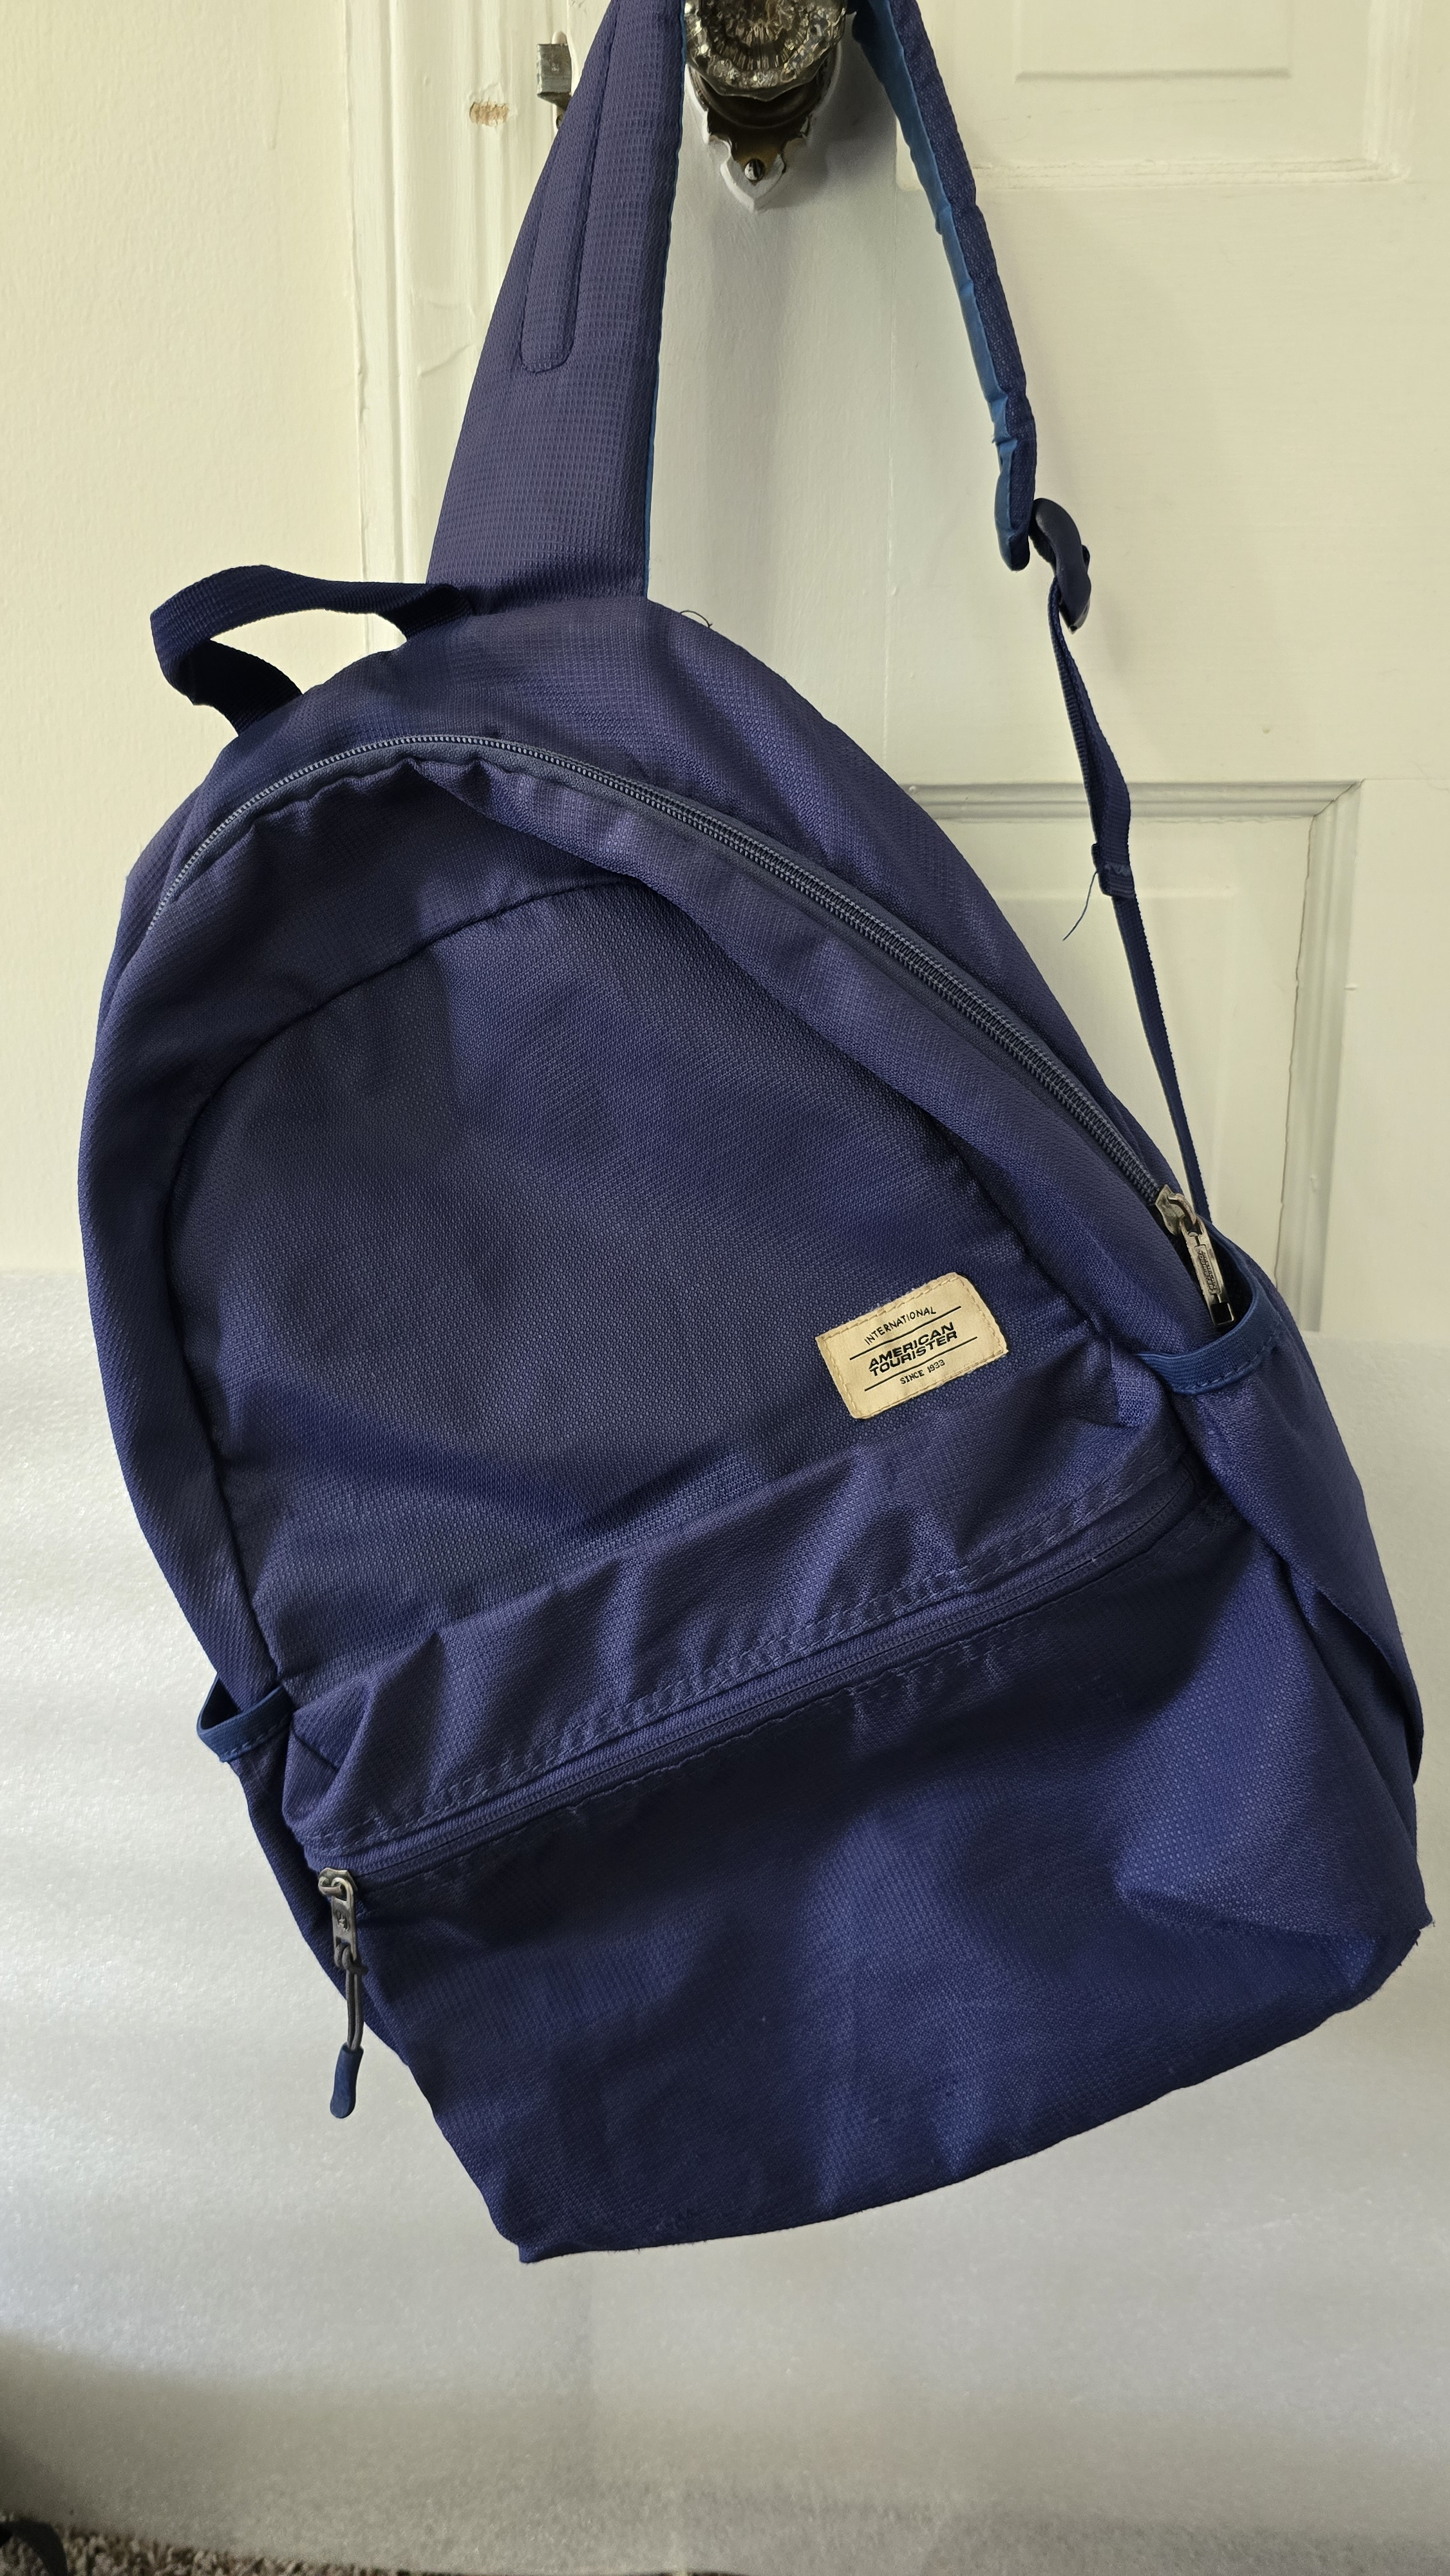bag: (44, 345, 1450, 2277)
